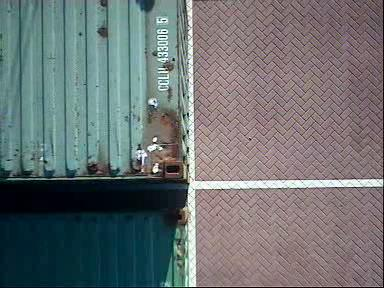groundmarker_2: (2, 144, 94, 220)
